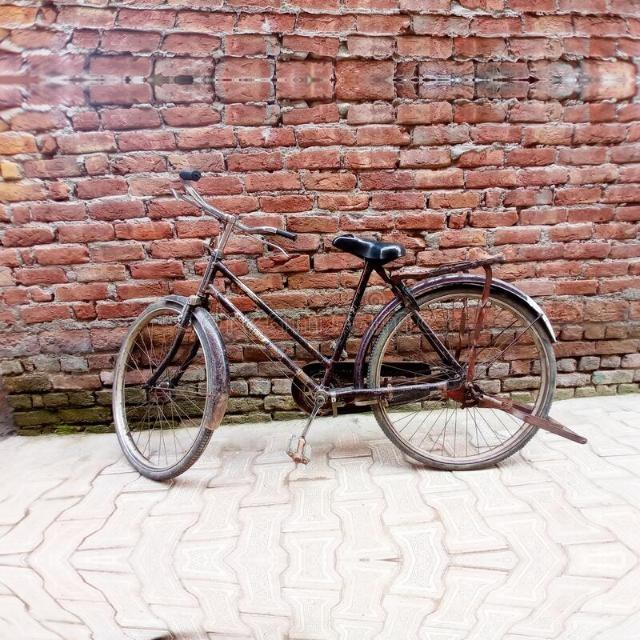obstacle: (92, 151, 582, 487), (92, 0, 582, 9), (92, 633, 582, 640)
